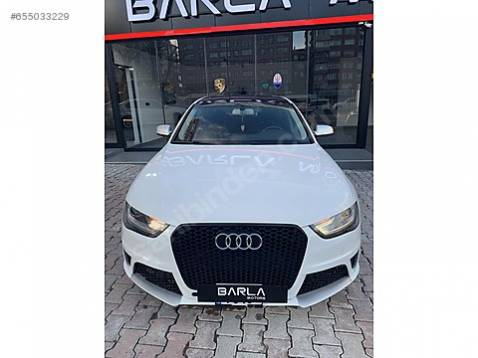audi: (211, 228, 268, 254)
